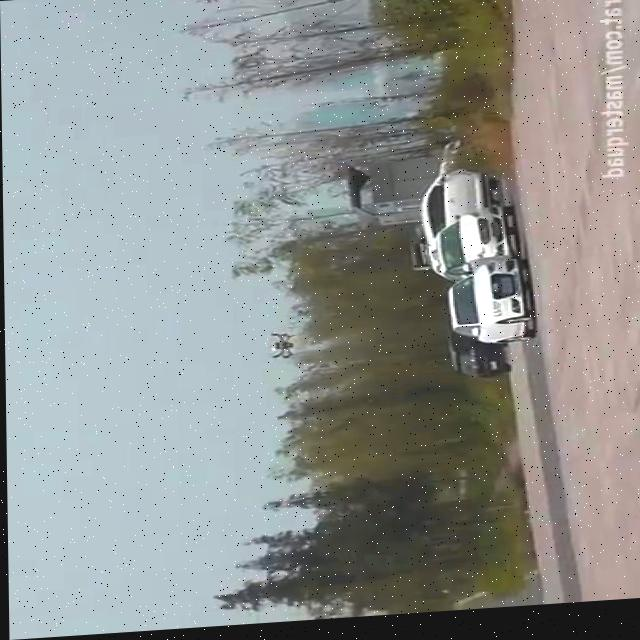drone: (259, 333, 297, 365)
